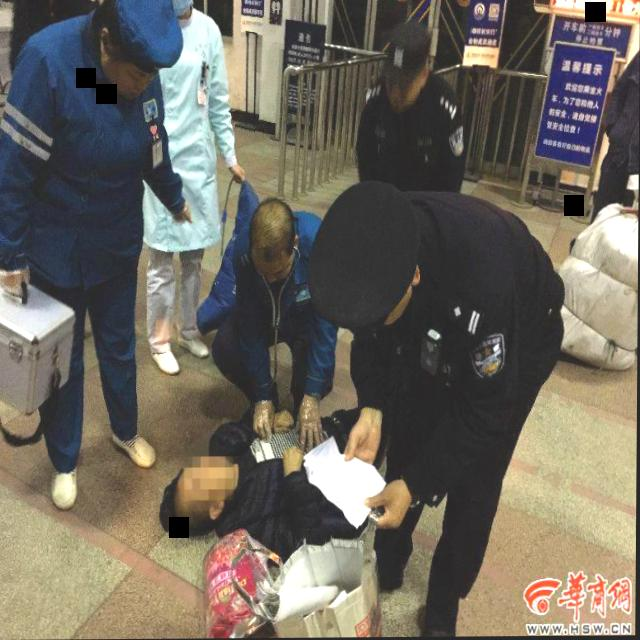Fall-Detected: (157, 384, 400, 551)
